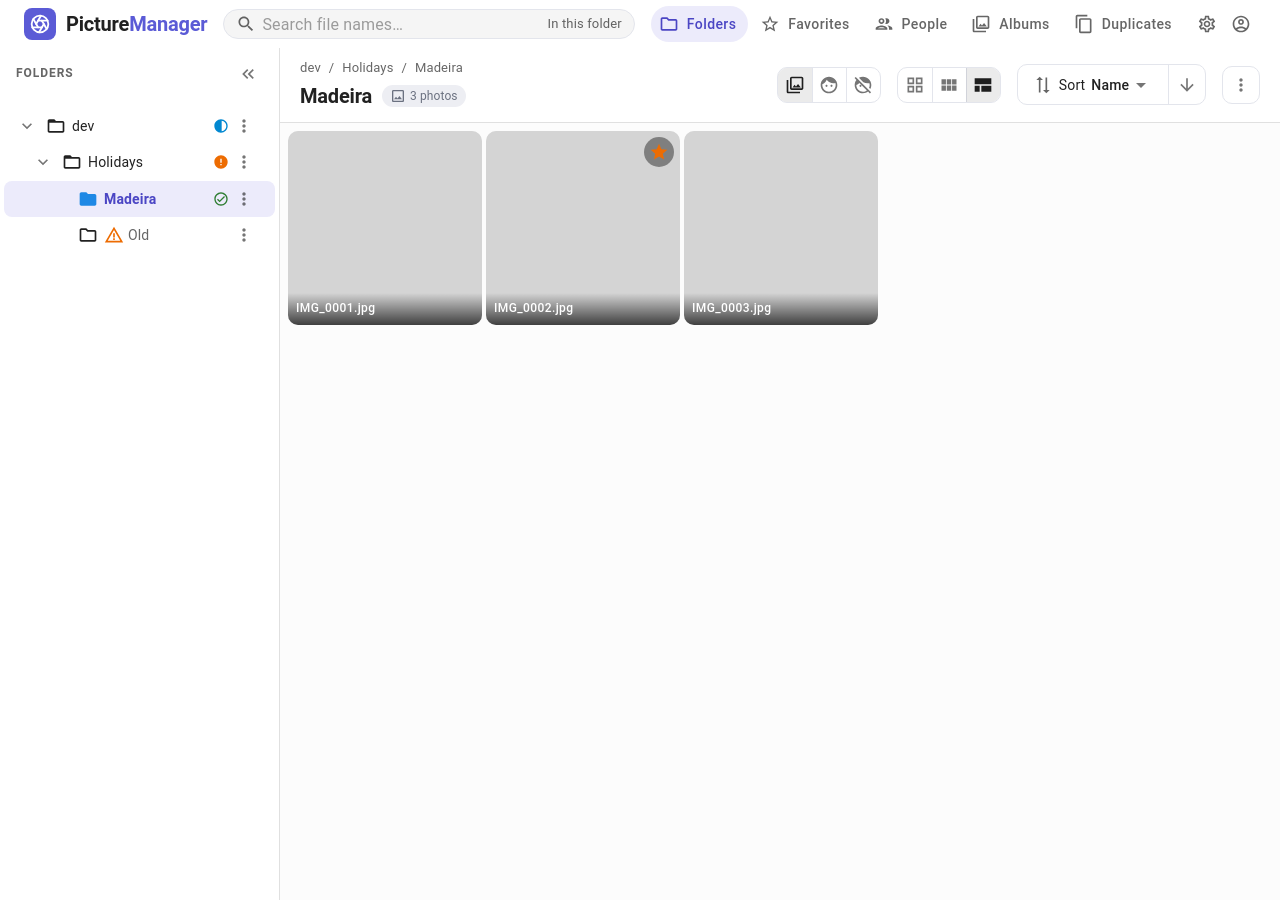
Scenario: AlbumsPage › is reachable from the app bar
What coordinates should you click on to do the following:
click the link "Albums"
I would click on:
 (1010, 24)
Its box is [971,14,1050,34].
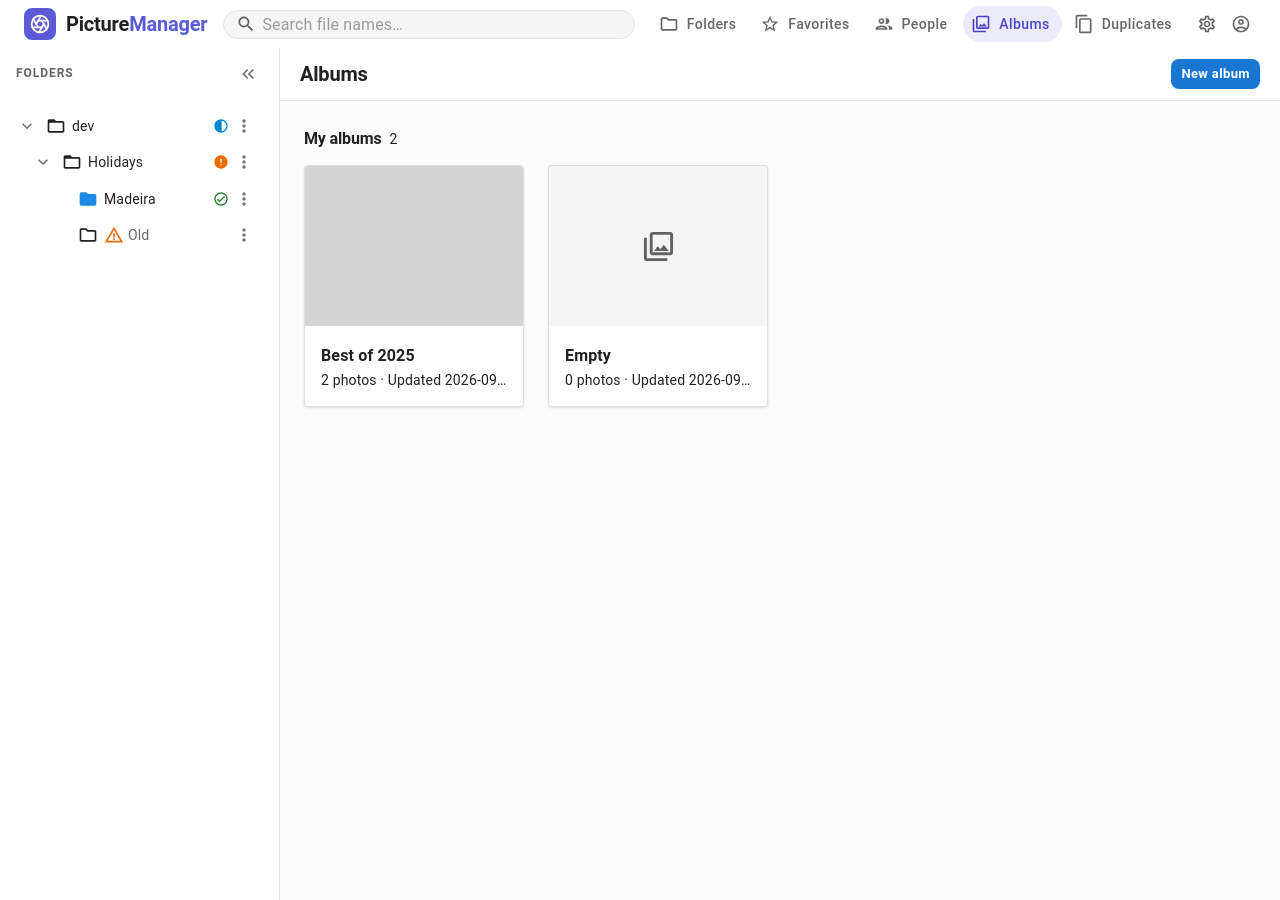
Expected: the heading "Albums" is shown, [300,58,368,90]
